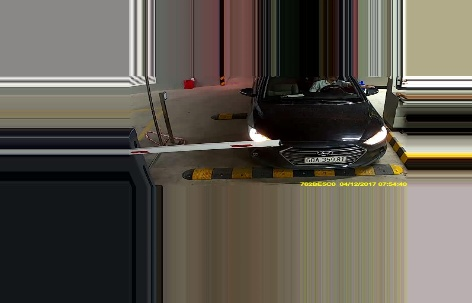plate: (305, 152, 347, 164)
